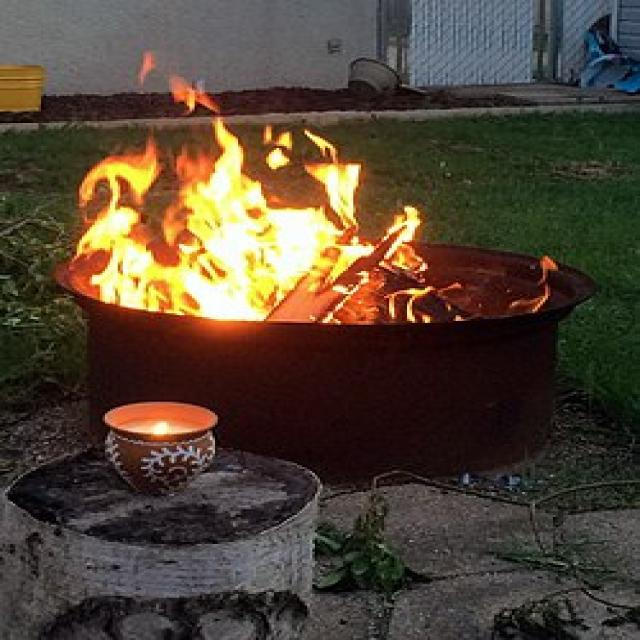fire: (74, 116, 428, 324)
